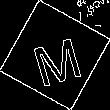M_N: (26, 24, 84, 86)
